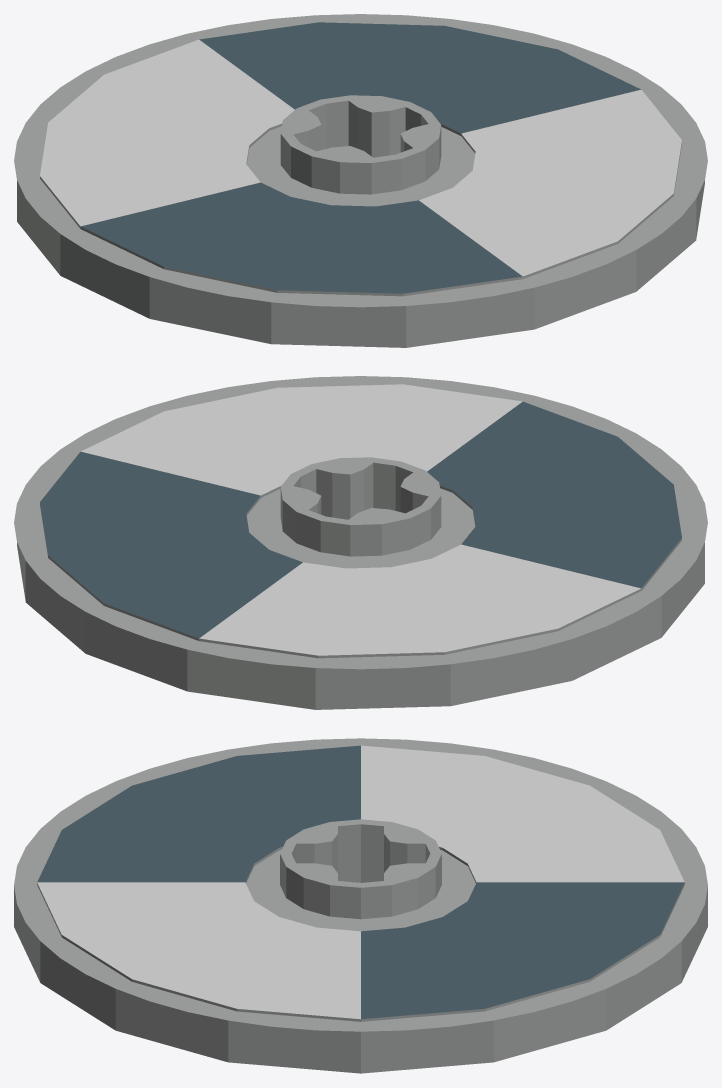
The picture shows the model from 3 angles, top to bottom: view 1: azimuth 30°, elevation 25°; view 2: azimuth 150°, elevation 25°; view 3: azimuth 270°, elevation 25°; orthographic projection.
Parts seen in each view (by area): view 1: world; view 2: world; view 3: world.
Boxes of the visible parts, x1,y1,x2,y2 form: world: (14,14,707,347); world: (14,376,707,709); world: (14,738,707,1073).
Bounding box in the file's own units: 0.024 × 0.004 × 0.024.
